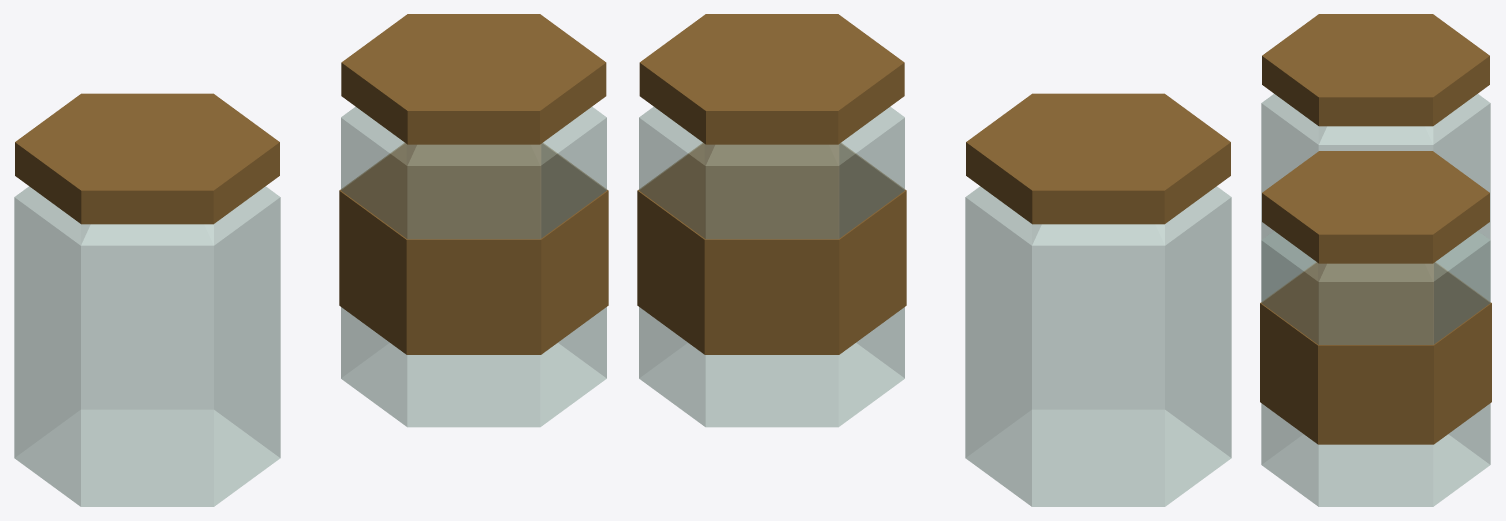
File: salt-pepper.fbx
3 views of the same model, side by side, from view 1: azimuth 30°, elevation 25°; view 2: azimuth 150°, elevation 25°; view 3: azimuth 270°, elevation 25° (orthographic). The views are drawn at different scales.
Parts seen in each view (by area): view 1: Cylinder.025, Cylinder.024; view 2: Cylinder.025, Cylinder.024; view 3: Cylinder.025, Cylinder.024.
Part boxes in pixels (box(x1,y1,x2,y2)): Cylinder.025: box(339, 14, 608, 427); Cylinder.024: box(14, 93, 280, 506); Cylinder.025: box(637, 14, 906, 427); Cylinder.024: box(965, 93, 1231, 506); Cylinder.025: box(1260, 151, 1491, 506); Cylinder.024: box(1261, 14, 1490, 300).
Bounding box in the file's own units: 33.54 × 19.21 × 14.84.
